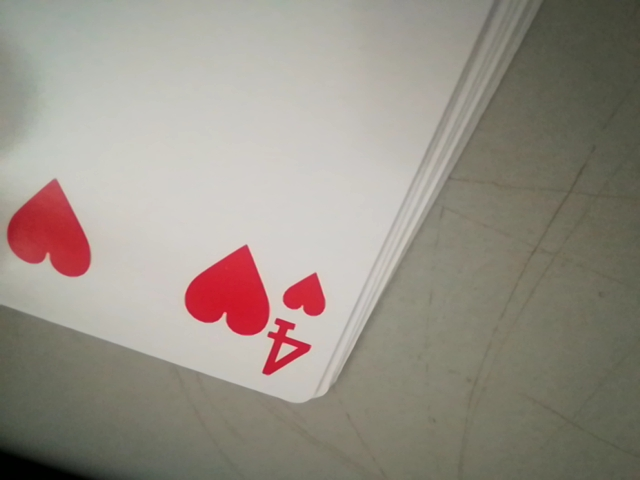hx 4: (262, 272, 323, 378)
